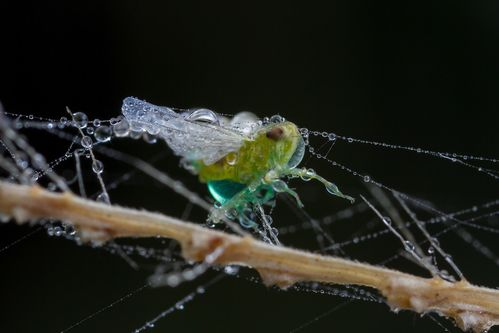Cicadellidae: (189, 121, 306, 212)
